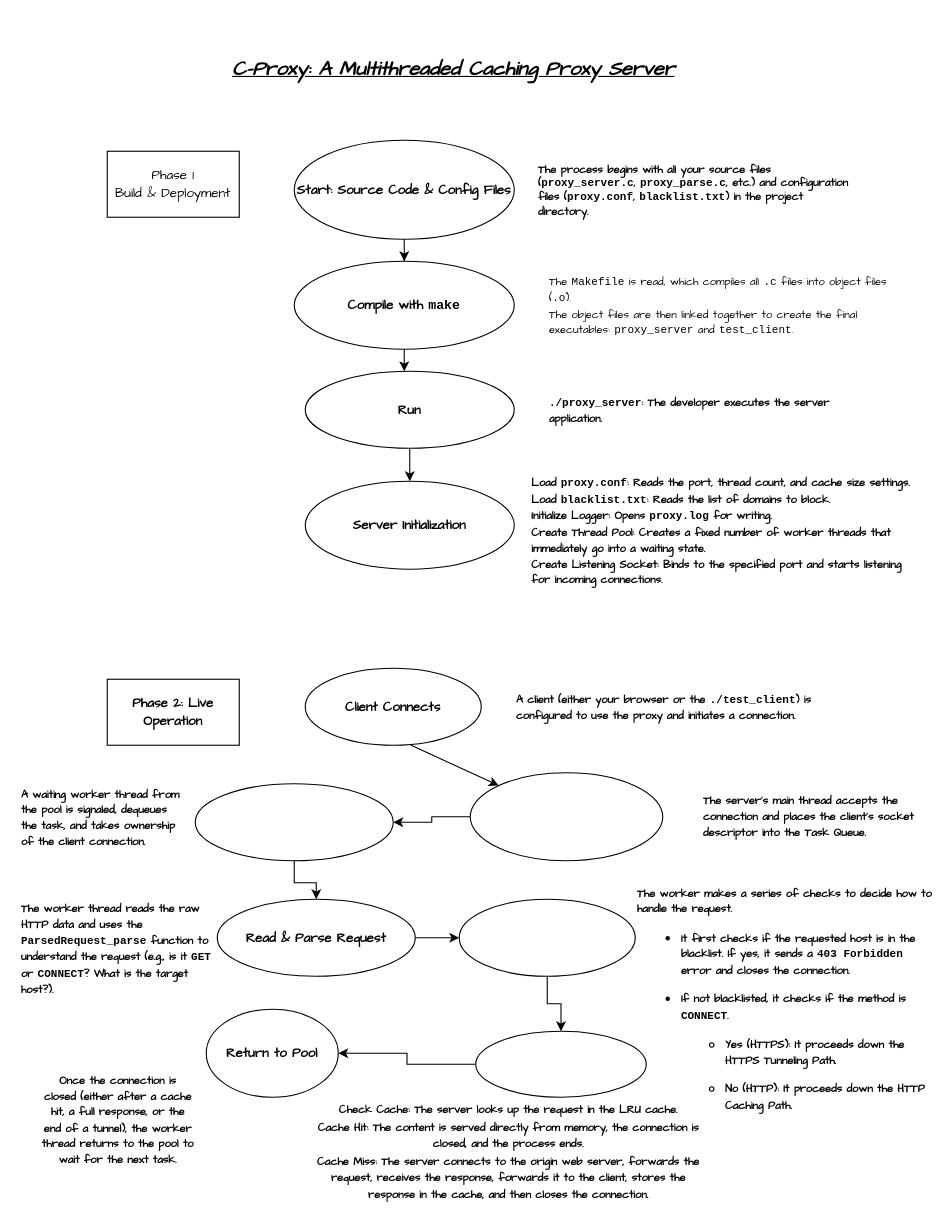
This 950x1221 diagram has some shape labels left out. Each missing label, with the centre of its shape:
Accept Connection & Enqueue: (x=566, y=816)
Decision Logic (Routing): (x=546, y=937)
HTTP Path: (x=560, y=1063)
Worker Thread Awakens: (x=293, y=822)
